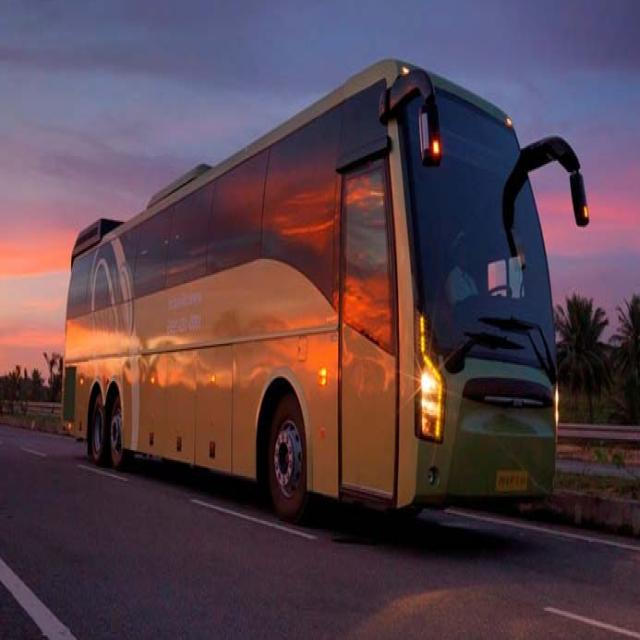bus: (62, 61, 589, 517)
